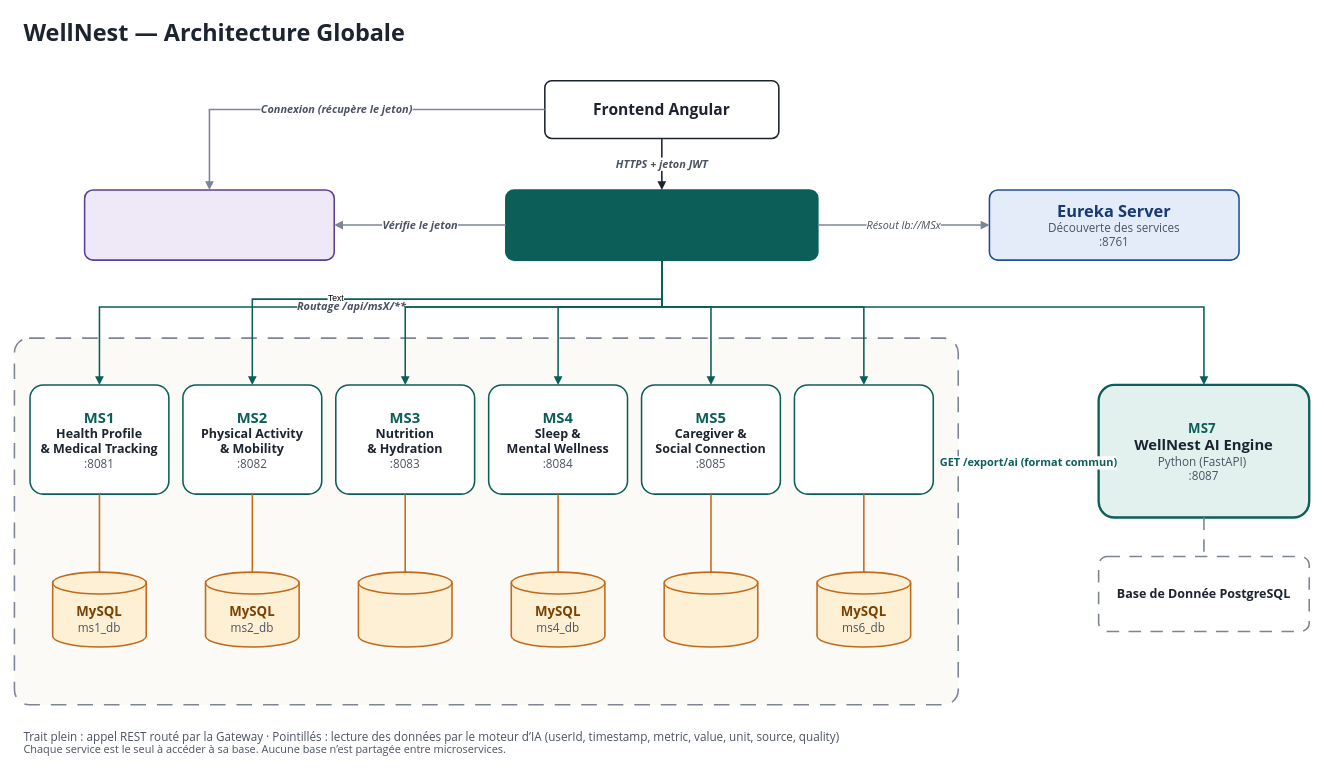
Image size: 1324x781. Some labels were removed from this diagram. The box of each missing label's shape, as (x1, y1, x2, y2) in pixels:
API Gateway Spring Cloud Gateway :8080: (505, 189, 818, 261)
Keycloak Authentification · OAuth2 / JWT :8180: (83, 189, 335, 261)
Microservices métier — Spring Boot · clients Eureka · une base MySQL par service: (13, 337, 959, 705)
MS6 Smart Home & Living Safety :8086: (793, 384, 934, 495)
MySQL ms3_db: (357, 571, 452, 647)
MySQL ms5_db: (663, 571, 758, 647)
